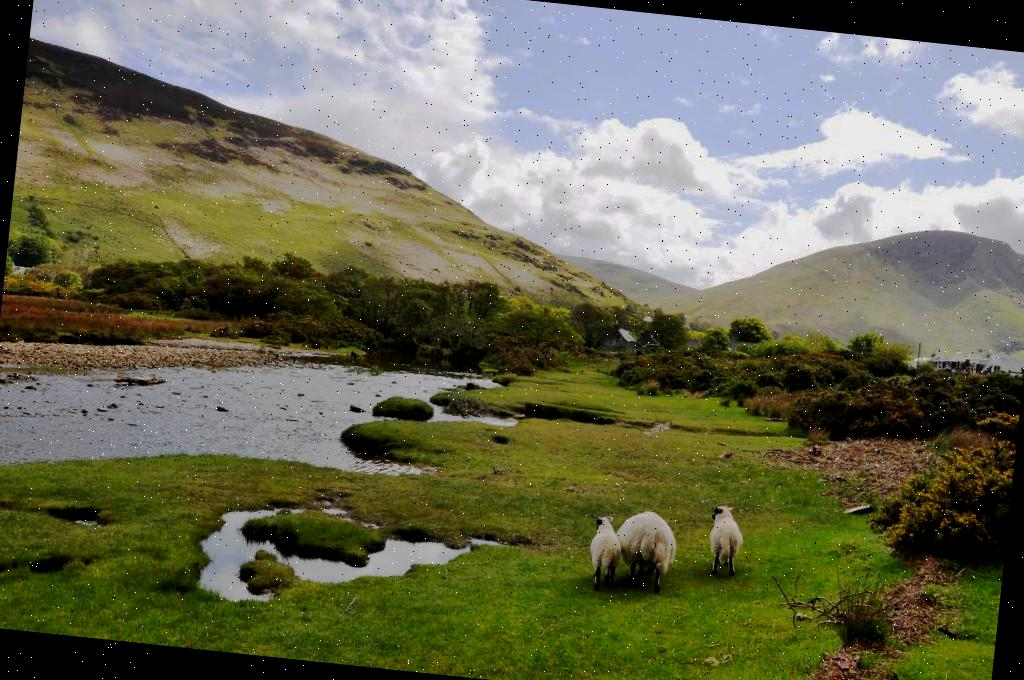Sheep: (610, 507, 680, 594), (702, 502, 748, 574), (586, 514, 626, 592)
